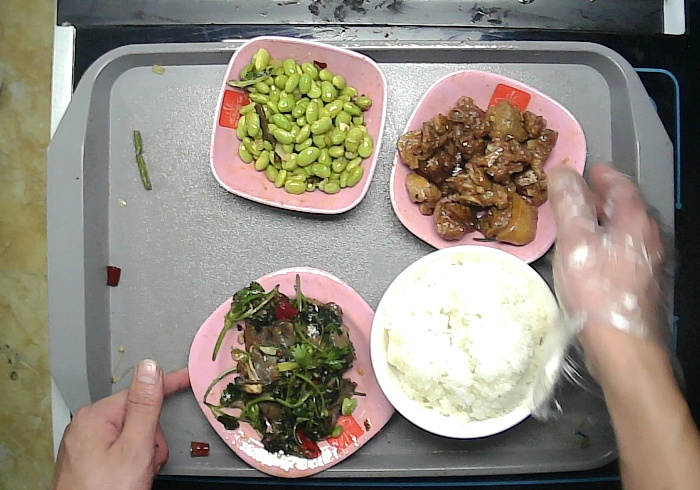SHKJ-Fan_Wan: (367, 243, 564, 439)
SHKJ-Fen_Se_Cai_Die: (387, 66, 589, 264)
SHKJ-Fen_Se_Si_Fang_Cai_Die: (185, 264, 405, 479)
SHKJ-Fen_Se_Xiao_Fang_Die: (208, 34, 390, 216)
